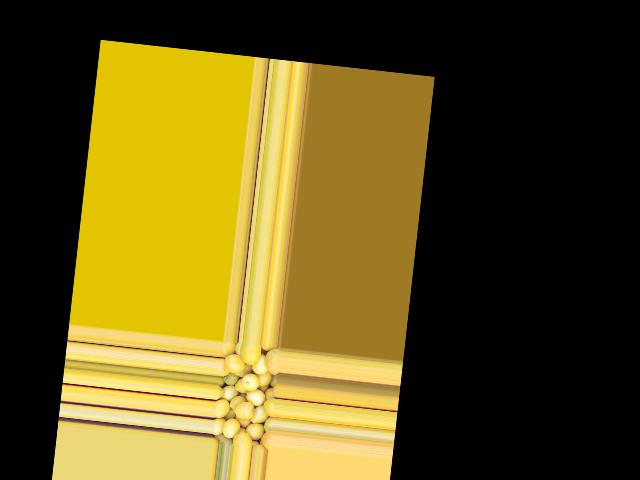lemon: (214, 397, 232, 419)
